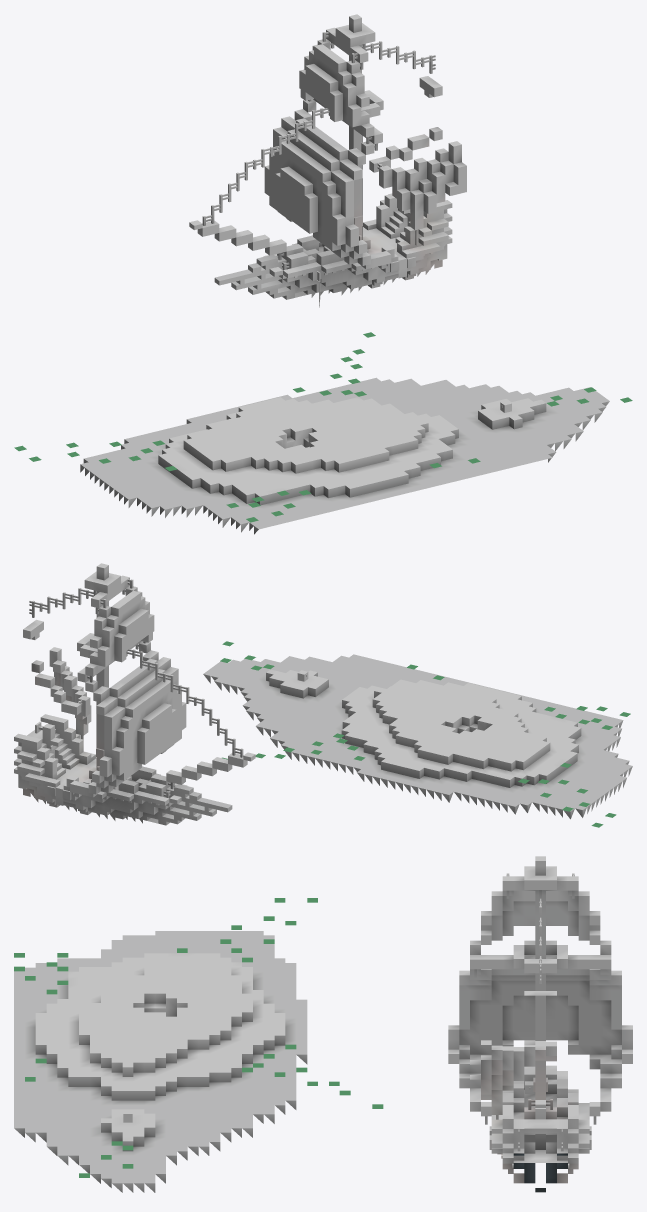
The picture shows the model from 3 angles, top to bottom: view 1: azimuth 30°, elevation 25°; view 2: azimuth 150°, elevation 25°; view 3: azimuth 270°, elevation 25°; orthographic projection. The views are drawn at different scales.
Visible parts, largest first — view 1: opaco, recorte; view 2: opaco, recorte; view 3: opaco, recorte.
Part boxes in pixels (bbox=[...]): opaco: bbox=[80, 21, 609, 534]; recorte: bbox=[14, 14, 632, 522]; opaco: bbox=[18, 569, 632, 823]; recorte: bbox=[14, 563, 630, 827]; opaco: bbox=[14, 865, 632, 1192]; recorte: bbox=[14, 856, 596, 1177].
Bounding box in the file's own units: 62 × 30.5 × 57.
